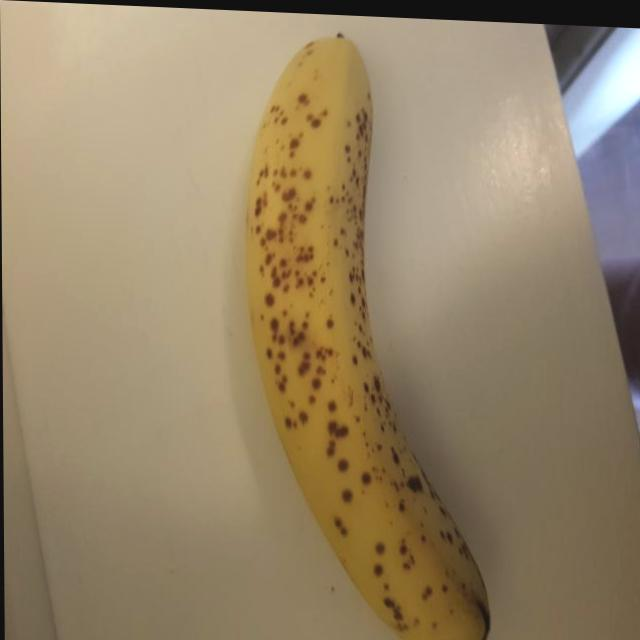banana: (242, 25, 497, 640)
